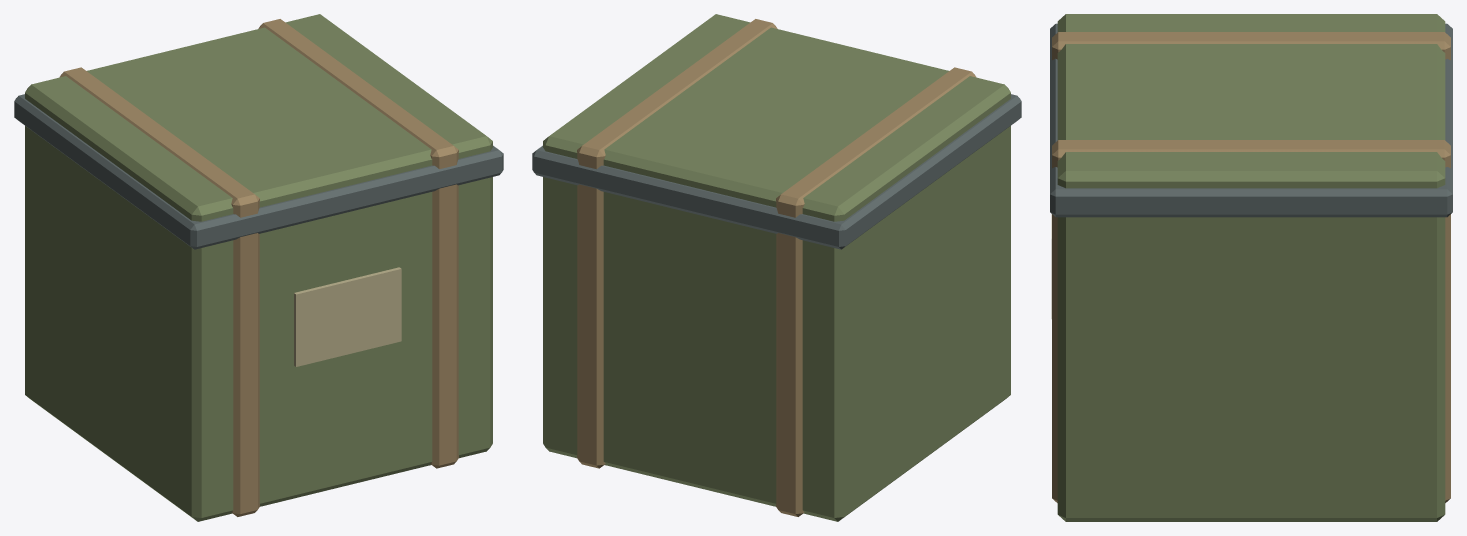
Rendered from crate.glb.
3 views of the same model, side by side, from view 1: azimuth 30°, elevation 25°; view 2: azimuth 150°, elevation 25°; view 3: azimuth 270°, elevation 25° (orthographic). The views are drawn at different scales.
Visible parts, largest first — view 1: crate; view 2: crate; view 3: crate.
Boxes of the visible parts, left/top/right/bottom form: crate: left=14, top=14, right=503, bottom=521; crate: left=532, top=14, right=1021, bottom=521; crate: left=1050, top=14, right=1452, bottom=521.
Bounding box in the file's own units: 1.25 × 1.21 × 1.25.
